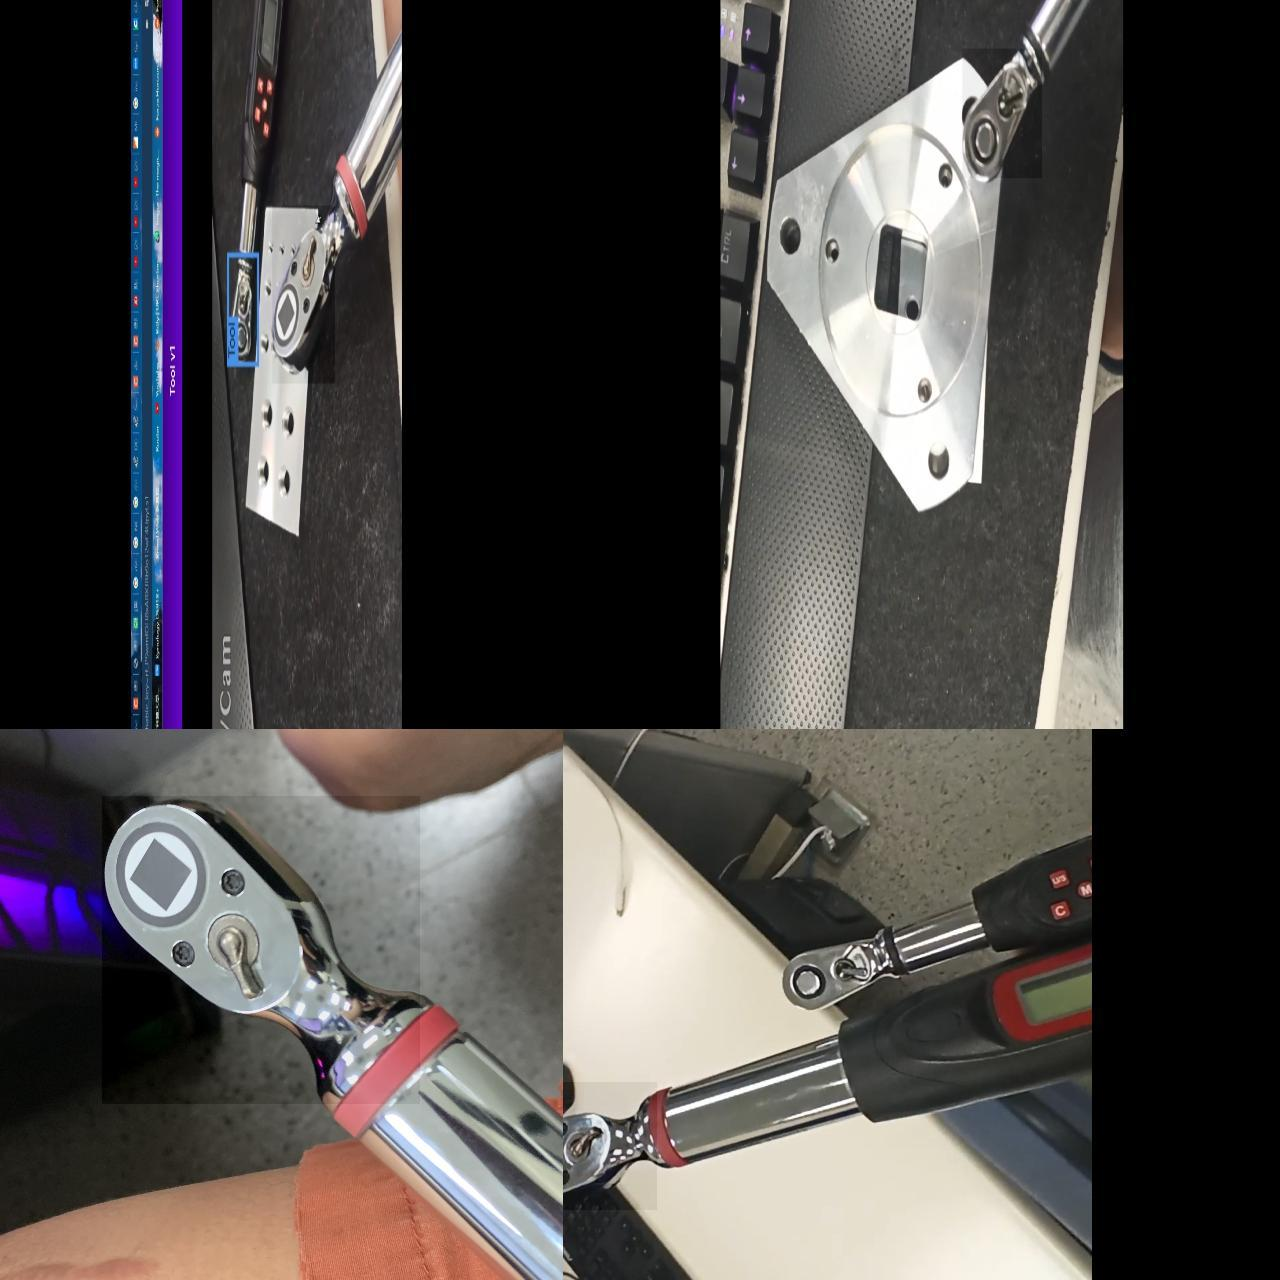Tool: (101, 796, 418, 1104), (563, 1082, 656, 1210), (272, 205, 334, 383), (962, 48, 1041, 178), (781, 933, 896, 1020)
